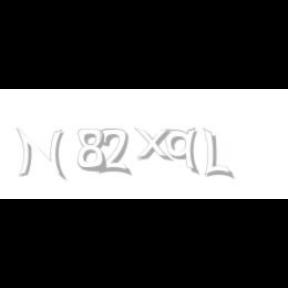2: (96, 128, 130, 176)
8: (78, 128, 106, 172)
L: (203, 128, 231, 180)
N: (16, 128, 64, 180)
q: (165, 128, 201, 176)
x: (134, 128, 176, 162)
